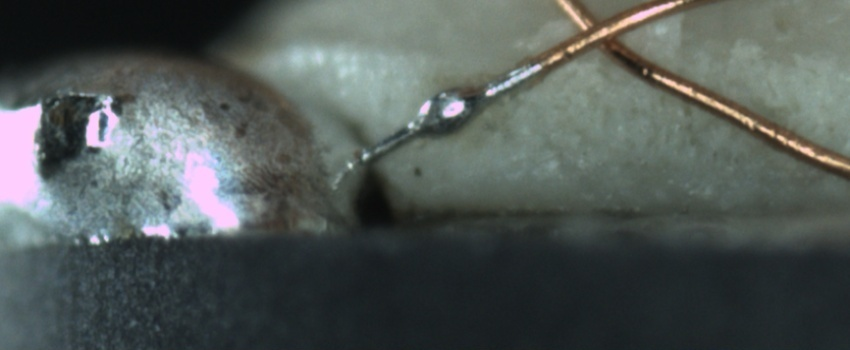CL: (559, 1, 643, 64)
TB: (407, 80, 483, 141)
TS: (365, 58, 540, 164)
TTCW: (360, 33, 580, 167)
